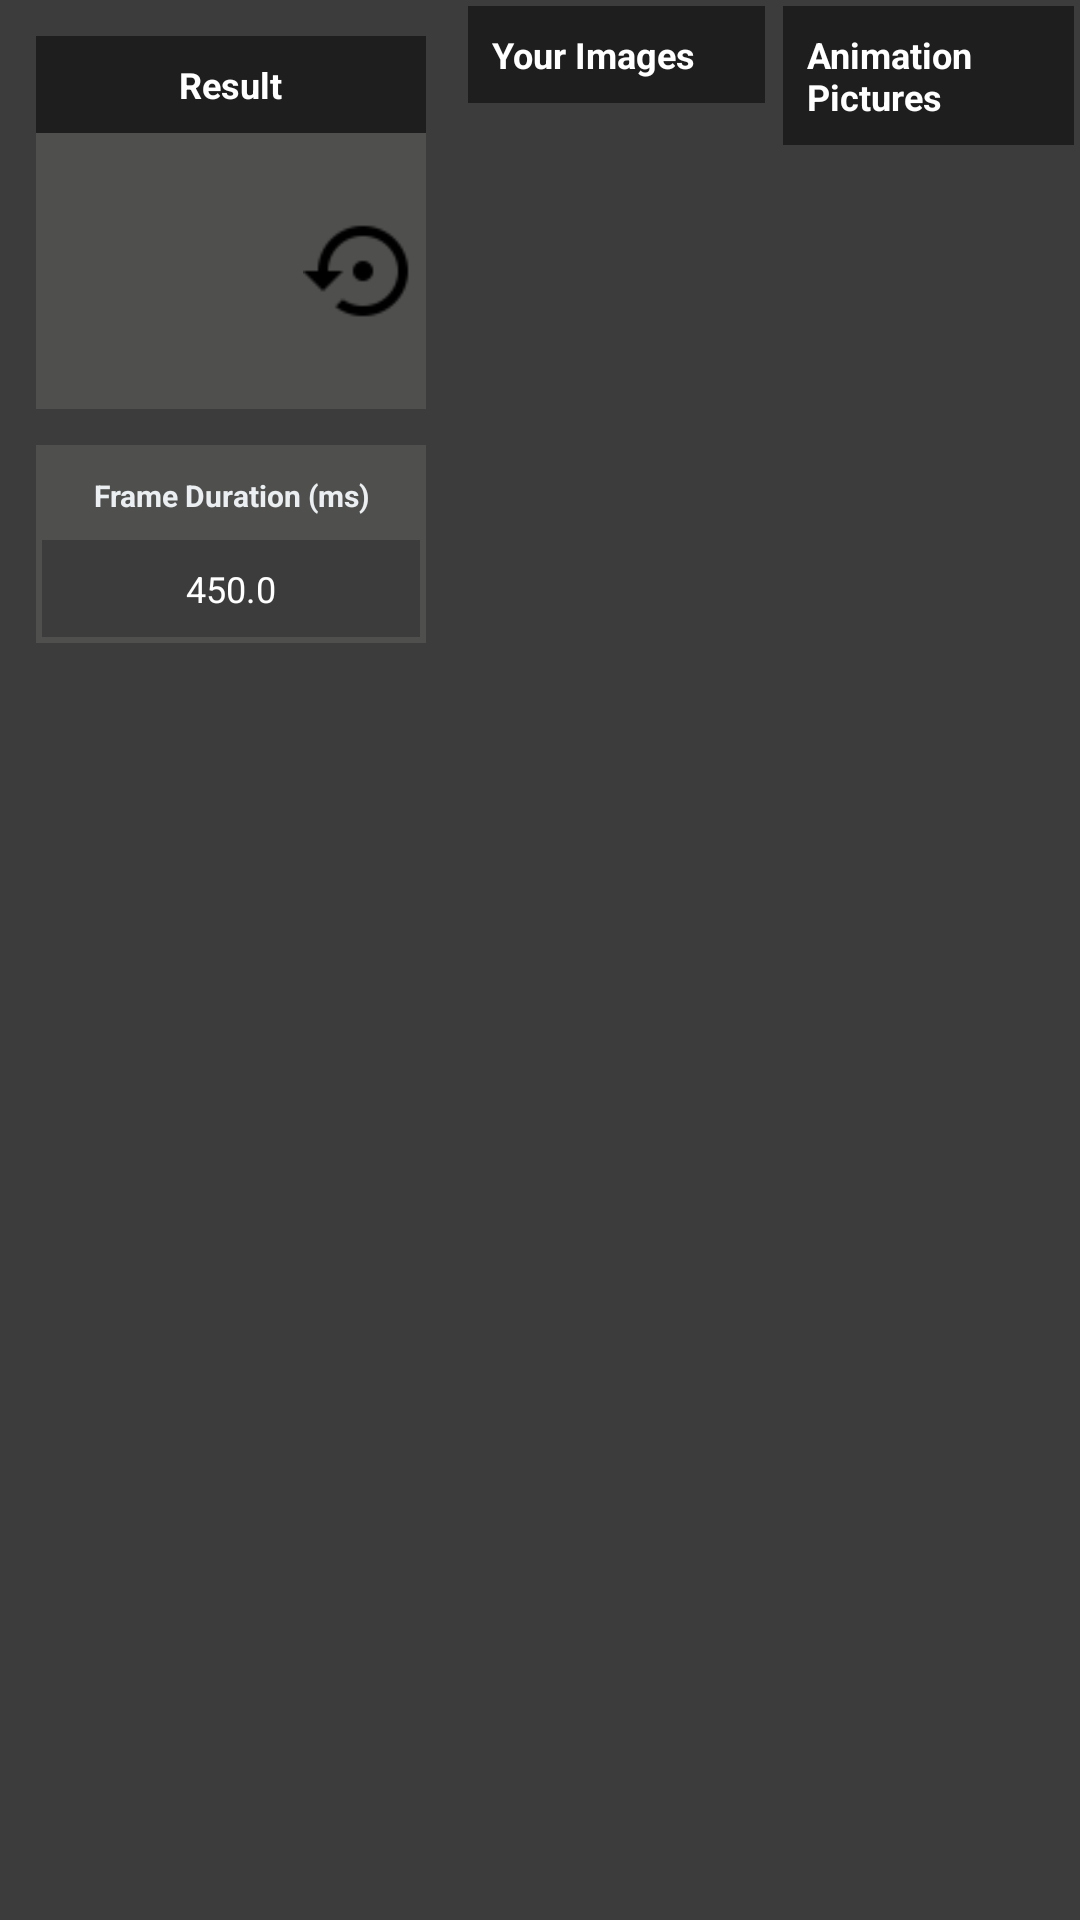

Icon click points for this 1080x1920 phone screenshot, format (x,y):
reset: (355,271)
